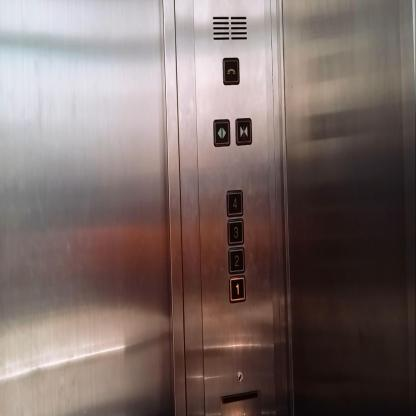1: (228, 274, 246, 304)
2: (227, 246, 245, 276)
3: (226, 216, 245, 247)
4: (225, 188, 244, 218)
call: (222, 55, 240, 87)
close: (234, 116, 252, 147)
keyhole: (236, 369, 244, 384)
open: (212, 117, 230, 148)
